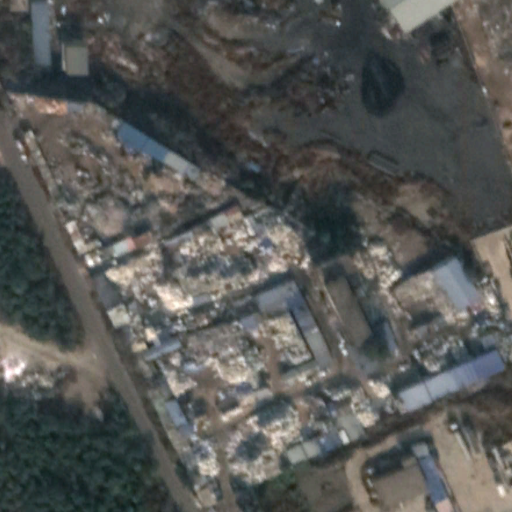msw: (99, 214, 511, 491)
